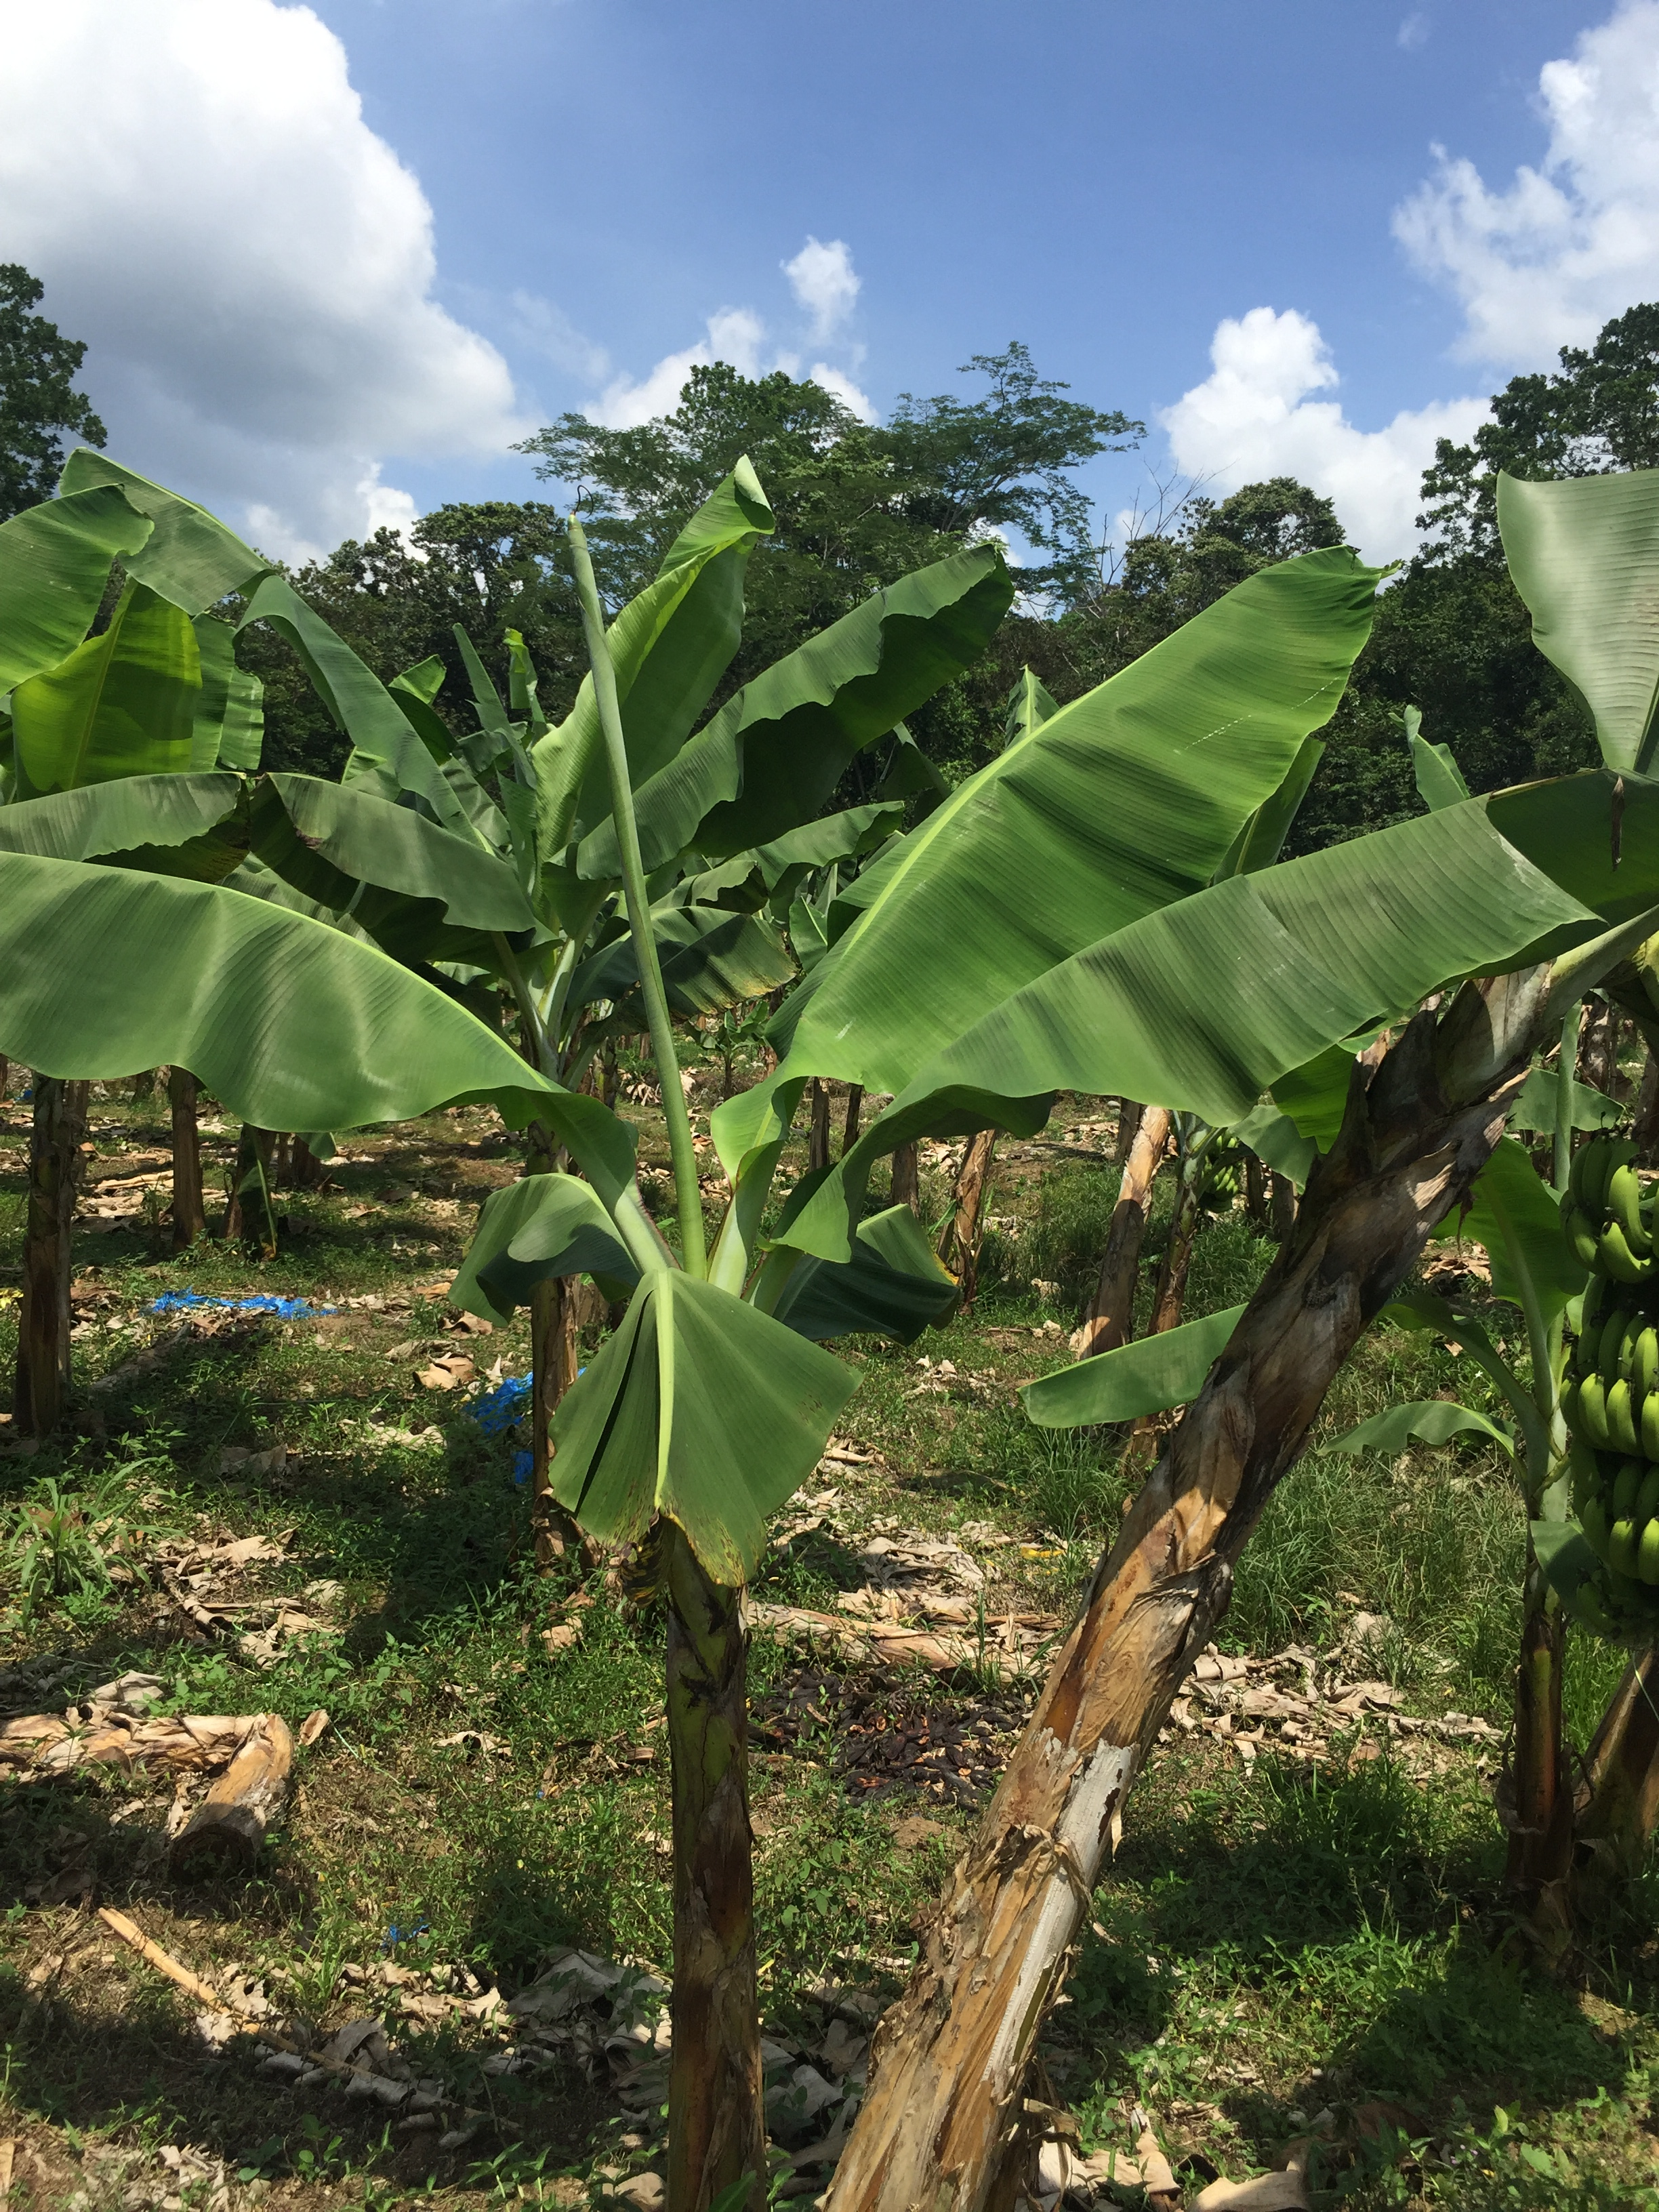candleleafs: (565, 516, 711, 1282)
